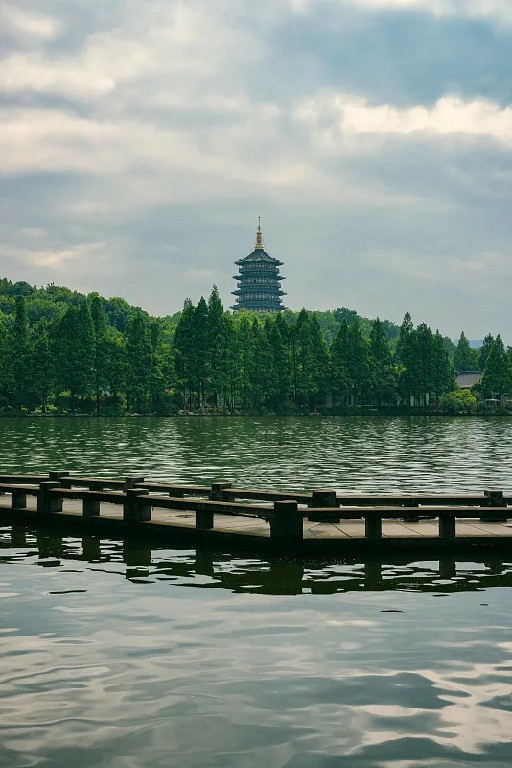Leifeng: (230, 217, 290, 316)
